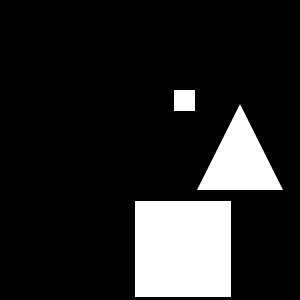circle: (135, 201, 231, 297), (174, 90, 195, 111)
triangle: (197, 104, 283, 190)
